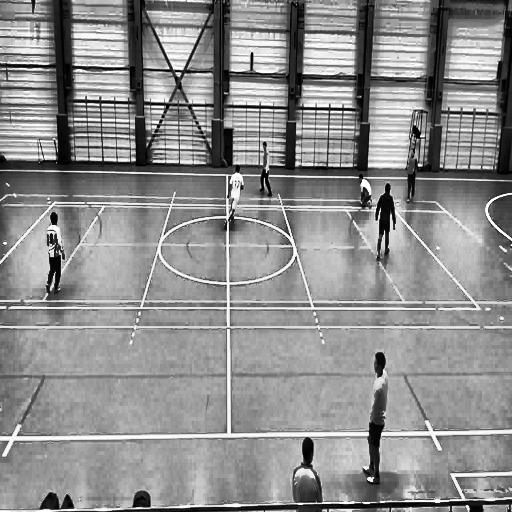player: (361, 345, 388, 489), (292, 437, 323, 506), (375, 182, 397, 264), (46, 212, 65, 298), (224, 164, 244, 233), (258, 140, 274, 199), (355, 170, 375, 212), (406, 148, 419, 208)
